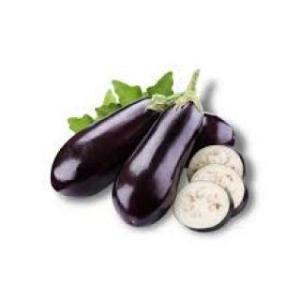eggplant: (113, 91, 201, 225), (52, 92, 167, 194)
